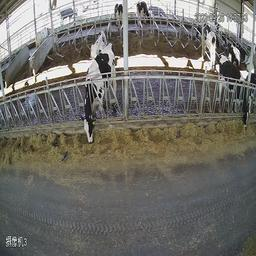cow: (79, 39, 118, 158), (217, 51, 249, 134), (200, 18, 217, 68), (90, 17, 107, 56), (135, 0, 153, 31), (111, 0, 123, 28)
